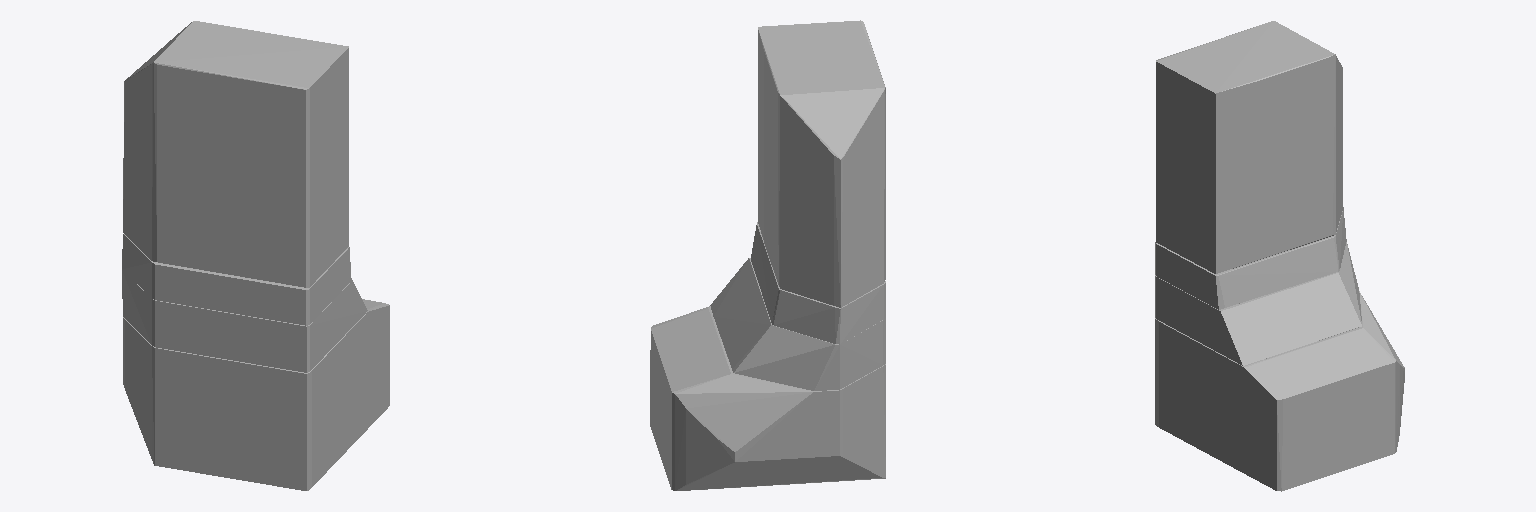
URDF robot description (root):
<robot name="root">
  <link name="link_L_Chamfered_convex_piece_0">
    <inertial>
      <origin xyz="0 0 0" rpy="0 0 0"/>
      <mass value="5.26E-02"/>
      <inertia ixx="8.86E-05" ixy="2.46E-06" ixz="8.35E-06" iyy="8.71E-05" iyz="7.83E-06" izz="1.50E-05"/>
    </inertial>
    <visual>
      <origin xyz="0 0 0" rpy="0 0 0"/>
      <geometry>
        <mesh filename="L_Chamfered_convex_piece_0.obj" scale="1.0000E+00 1.0000E+00 1.0000E+00"/>
      </geometry>
      <material name="">
        <color rgba="7.50E-01 7.50E-01 7.50E-01 1"/>
      </material>
    </visual>
    <collision>
      <origin xyz="0 0 0" rpy="0 0 0"/>
      <geometry>
        <mesh filename="L_Chamfered_convex_piece_0.obj" scale="1.0000E+00 1.0000E+00 1.0000E+00"/>
      </geometry>
    </collision>
  </link>
  <link name="link_L_Chamfered_convex_piece_1">
    <inertial>
      <origin xyz="0 0 0" rpy="0 0 0"/>
      <mass value="9.93E-03"/>
      <inertia ixx="1.80E-06" ixy="5.11E-07" ixz="1.83E-07" iyy="1.56E-06" iyz="1.44E-07" izz="2.87E-06"/>
    </inertial>
    <visual>
      <origin xyz="0 0 0" rpy="0 0 0"/>
      <geometry>
        <mesh filename="L_Chamfered_convex_piece_1.obj" scale="1.0000E+00 1.0000E+00 1.0000E+00"/>
      </geometry>
      <material name="">
        <color rgba="7.50E-01 7.50E-01 7.50E-01 1"/>
      </material>
    </visual>
    <collision>
      <origin xyz="0 0 0" rpy="0 0 0"/>
      <geometry>
        <mesh filename="L_Chamfered_convex_piece_1.obj" scale="1.0000E+00 1.0000E+00 1.0000E+00"/>
      </geometry>
    </collision>
  </link>
  <joint name="link_L_Chamfered_convex_piece_1_joint" type="fixed">
    <origin xyz="0 0 0" rpy="0 0 0"/>
    <parent link="link_L_Chamfered_convex_piece_0"/>
    <child link="link_L_Chamfered_convex_piece_1"/>
  </joint>
  <link name="link_L_Chamfered_convex_piece_2">
    <inertial>
      <origin xyz="0 0 0" rpy="0 0 0"/>
      <mass value="1.59E-02"/>
      <inertia ixx="3.66E-06" ixy="8.29E-07" ixz="-2.03E-07" iyy="3.35E-06" iyz="-9.27E-08" izz="4.84E-06"/>
    </inertial>
    <visual>
      <origin xyz="0 0 0" rpy="0 0 0"/>
      <geometry>
        <mesh filename="L_Chamfered_convex_piece_2.obj" scale="1.0000E+00 1.0000E+00 1.0000E+00"/>
      </geometry>
      <material name="">
        <color rgba="7.50E-01 7.50E-01 7.50E-01 1"/>
      </material>
    </visual>
    <collision>
      <origin xyz="0 0 0" rpy="0 0 0"/>
      <geometry>
        <mesh filename="L_Chamfered_convex_piece_2.obj" scale="1.0000E+00 1.0000E+00 1.0000E+00"/>
      </geometry>
    </collision>
  </link>
  <joint name="link_L_Chamfered_convex_piece_2_joint" type="fixed">
    <origin xyz="0 0 0" rpy="0 0 0"/>
    <parent link="link_L_Chamfered_convex_piece_1"/>
    <child link="link_L_Chamfered_convex_piece_2"/>
  </joint>
  <link name="link_L_Chamfered_convex_piece_3">
    <inertial>
      <origin xyz="0 0 0" rpy="0 0 0"/>
      <mass value="6.27E-02"/>
      <inertia ixx="7.35E-05" ixy="-2.11E-06" ixz="1.03E-05" iyy="7.45E-05" iyz="8.39E-06" izz="3.01E-05"/>
    </inertial>
    <visual>
      <origin xyz="0 0 0" rpy="0 0 0"/>
      <geometry>
        <mesh filename="L_Chamfered_convex_piece_3.obj" scale="1.0000E+00 1.0000E+00 1.0000E+00"/>
      </geometry>
      <material name="">
        <color rgba="7.50E-01 7.50E-01 7.50E-01 1"/>
      </material>
    </visual>
    <collision>
      <origin xyz="0 0 0" rpy="0 0 0"/>
      <geometry>
        <mesh filename="L_Chamfered_convex_piece_3.obj" scale="1.0000E+00 1.0000E+00 1.0000E+00"/>
      </geometry>
    </collision>
  </link>
  <joint name="link_L_Chamfered_convex_piece_3_joint" type="fixed">
    <origin xyz="0 0 0" rpy="0 0 0"/>
    <parent link="link_L_Chamfered_convex_piece_2"/>
    <child link="link_L_Chamfered_convex_piece_3"/>
  </joint>
</robot>

--- What the picture shows (computed from the rendered views, not written in the file) ---
The picture shows the robot from 3 angles, left to right: view 1: azimuth 30°, elevation 25°; view 2: azimuth 150°, elevation 25°; view 3: azimuth 270°, elevation 25°; orthographic projection.
Robot: root — 4 links, 3 joints (3 fixed); root link link_L_Chamfered_convex_piece_0; default pose: every joint at zero.
Visible links, largest first — view 1: link_L_Chamfered_convex_piece_0, link_L_Chamfered_convex_piece_3, link_L_Chamfered_convex_piece_2, link_L_Chamfered_convex_piece_1; view 2: link_L_Chamfered_convex_piece_0, link_L_Chamfered_convex_piece_3, link_L_Chamfered_convex_piece_2, link_L_Chamfered_convex_piece_1; view 3: link_L_Chamfered_convex_piece_0, link_L_Chamfered_convex_piece_3, link_L_Chamfered_convex_piece_2, link_L_Chamfered_convex_piece_1.
Link boxes in pixels (x1,y1,x2,y2): link_L_Chamfered_convex_piece_0: (123, 21, 348, 287); link_L_Chamfered_convex_piece_3: (123, 299, 389, 490); link_L_Chamfered_convex_piece_2: (122, 270, 367, 372); link_L_Chamfered_convex_piece_1: (122, 234, 351, 325); link_L_Chamfered_convex_piece_0: (758, 20, 885, 307); link_L_Chamfered_convex_piece_3: (650, 306, 885, 490); link_L_Chamfered_convex_piece_2: (710, 258, 885, 390); link_L_Chamfered_convex_piece_1: (751, 222, 885, 344); link_L_Chamfered_convex_piece_0: (1156, 21, 1342, 273); link_L_Chamfered_convex_piece_3: (1155, 291, 1404, 491); link_L_Chamfered_convex_piece_2: (1155, 242, 1361, 365); link_L_Chamfered_convex_piece_1: (1155, 207, 1346, 309).
Bounding box of the posed robot: 0.0672 × 0.0673 × 0.1085 m (x, y, z).
Meshes: 4 distinct files referenced, 4 mesh visuals loaded (4 OBJ).
